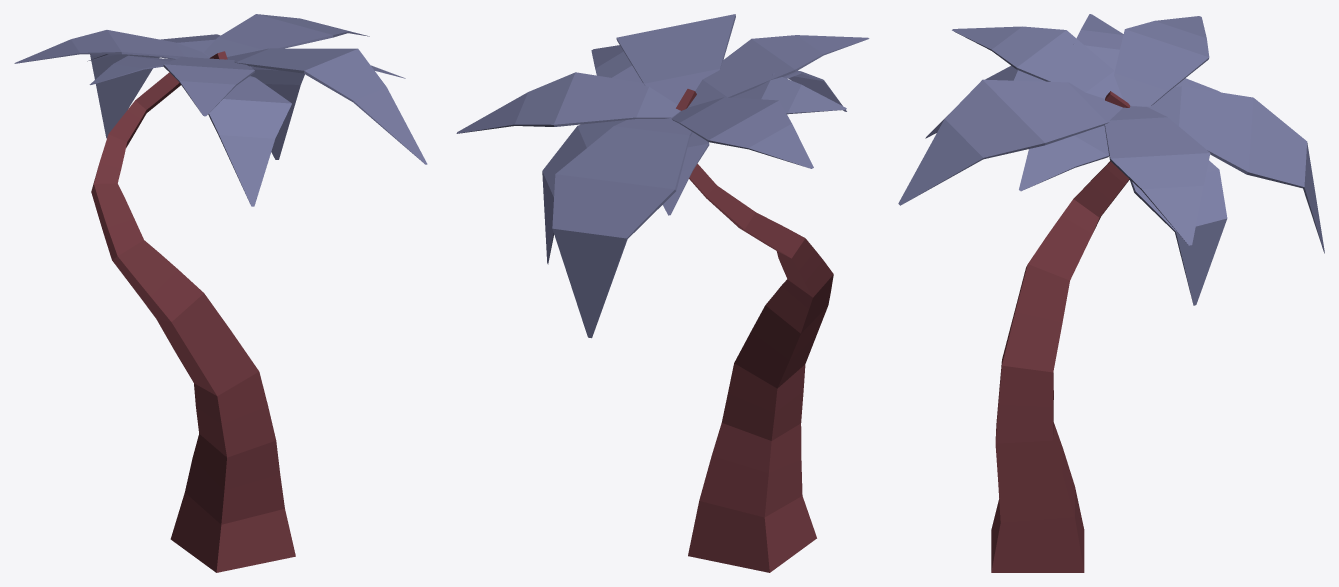
File: Tree_A_01.fbx
3 renders of one model, left to right at view 1: azimuth 30°, elevation 25°; view 2: azimuth 150°, elevation 25°; view 3: azimuth 270°, elevation 25°, orthographic. The views are drawn at different scales.
Visible parts, largest first — view 1: Tree_A_01; view 2: Tree_A_01; view 3: Tree_A_01.
Part boxes in pixels (x1,y1,x2,y2): Tree_A_01: (14,14,427,572); Tree_A_01: (456,14,869,572); Tree_A_01: (898,14,1324,572).
Bounding box in the file's own units: 406 × 541 × 421.
